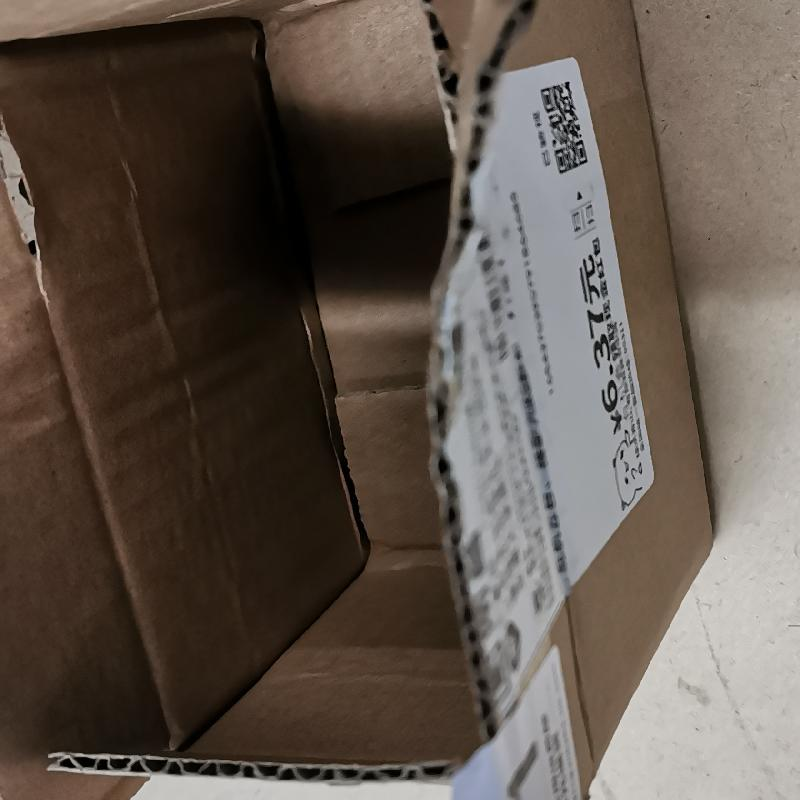boxes: (1, 3, 718, 799)
